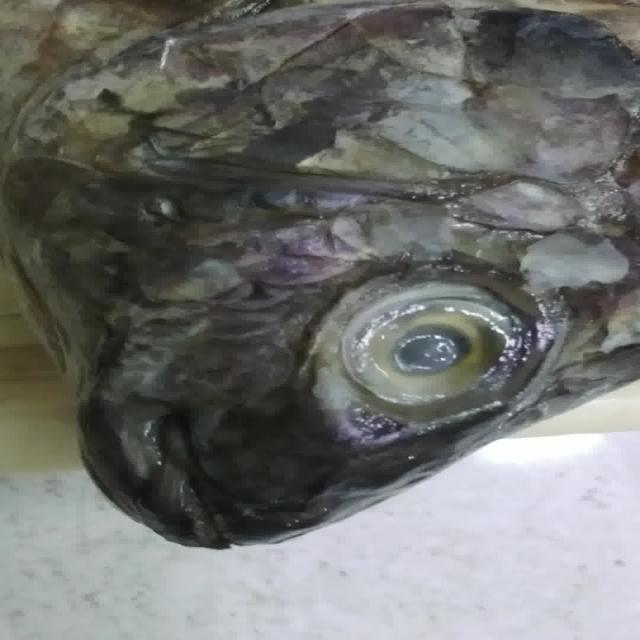Non-Fresh: (324, 269, 537, 429)
